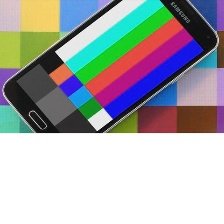phone: (1, 0, 221, 155)
